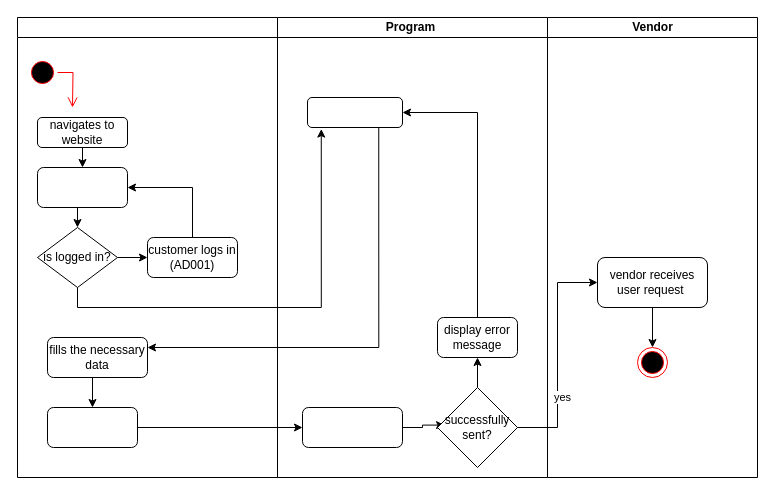
The diagram is 775 pixels wide and 495 high, and some of its shapes have lost their labels. The shapes that lost their labels are listed below. From the top down, each one's box as (x1, y1, x2, y2) in pixels, then its label:
(306, 96, 402, 128): display "contact vendor" form
(36, 166, 128, 208): clicks "contact vendor"
(16, 16, 278, 478): Client
(46, 406, 138, 448): submit
(302, 406, 402, 448): processes Client request
